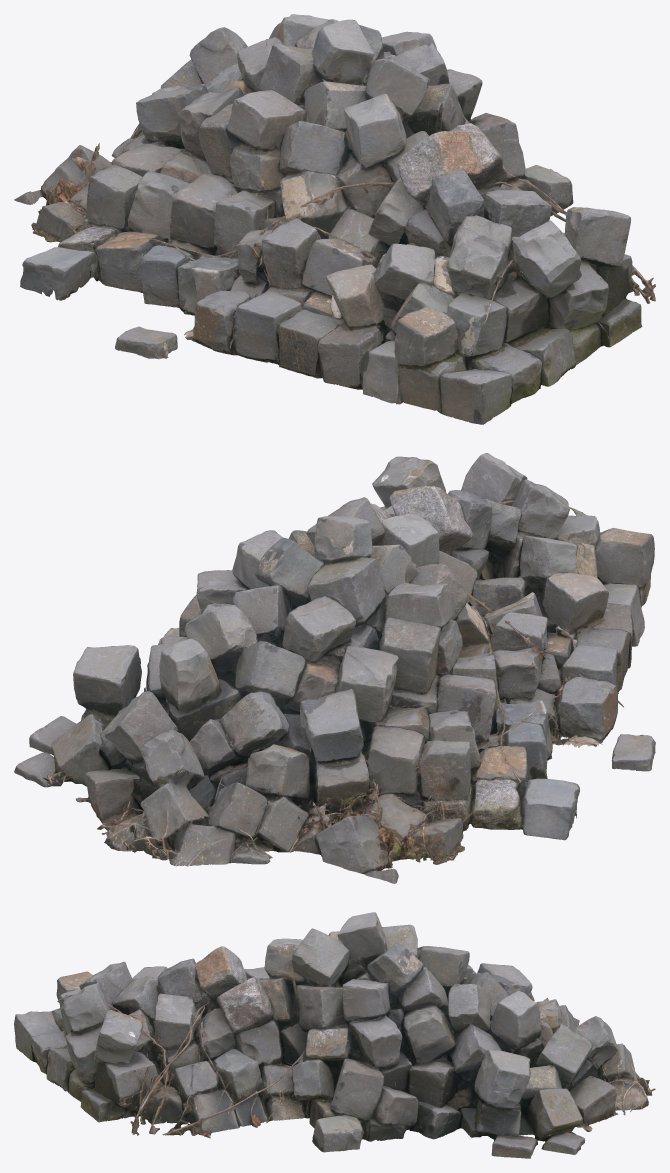
Rendered from cobble_pile.glb.
The picture shows the model from 3 angles, top to bottom: view 1: azimuth 30°, elevation 25°; view 2: azimuth 150°, elevation 25°; view 3: azimuth 270°, elevation 25°; orthographic projection. The views are drawn at different scales.
Visible parts, largest first — view 1: Model; view 2: Model; view 3: Model.
Part boxes in pixels (x1,y1,x2,y2): Model: (14, 14, 655, 424); Model: (14, 453, 655, 883); Model: (14, 912, 655, 1158).
Bounding box in the file's own units: 5.77 × 2.56 × 8.46.
2 materials, 2 textured.
